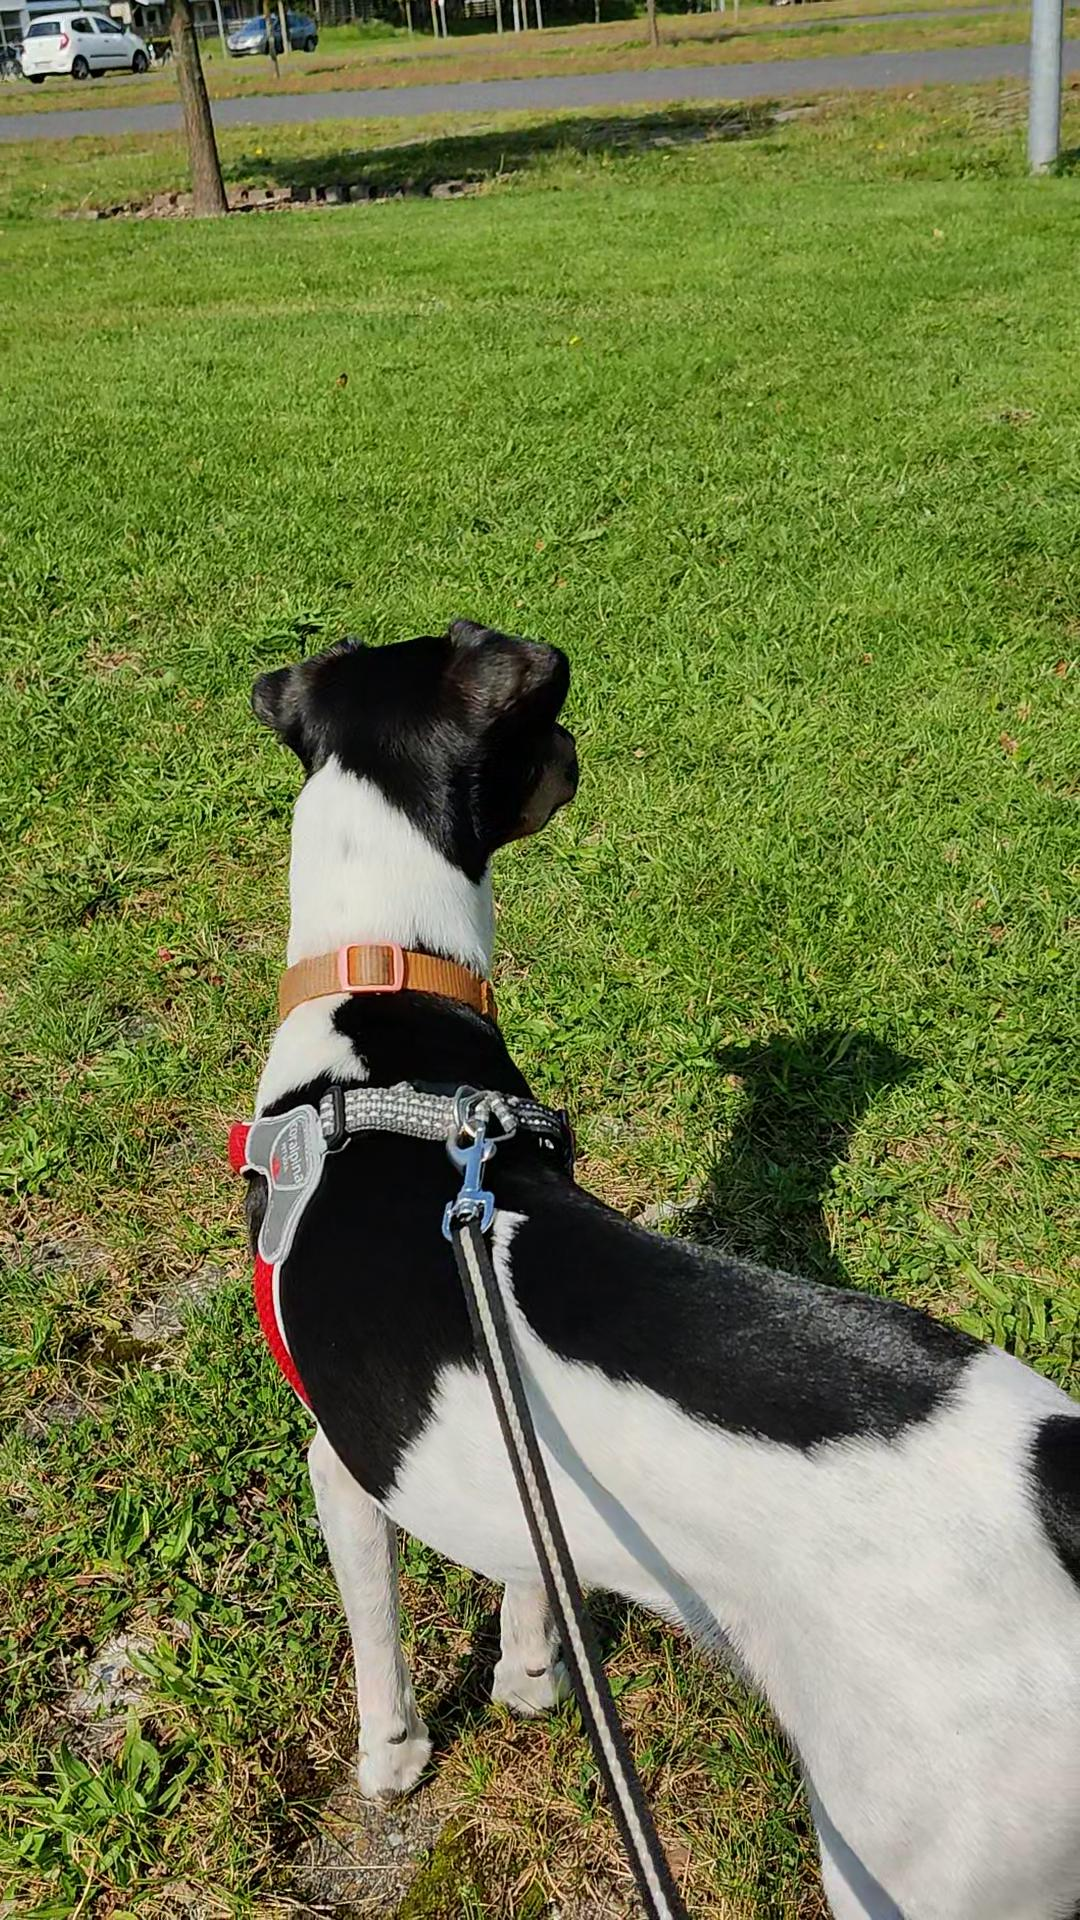Dog: (211, 580, 1079, 1919)
